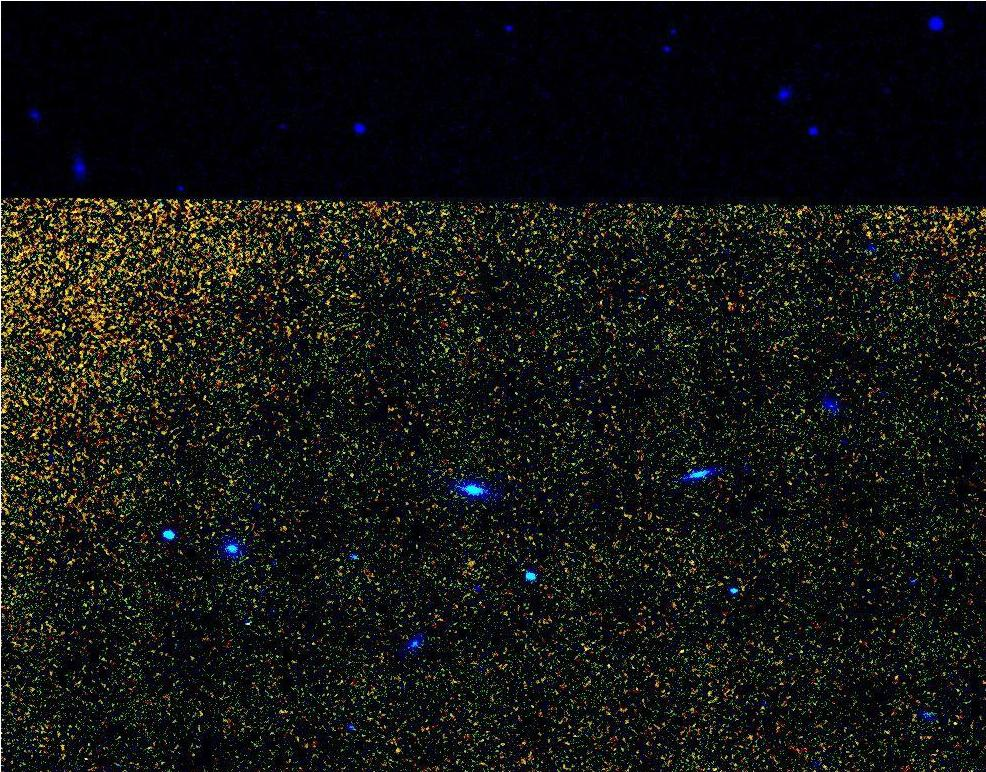star: (383, 736, 413, 766)
